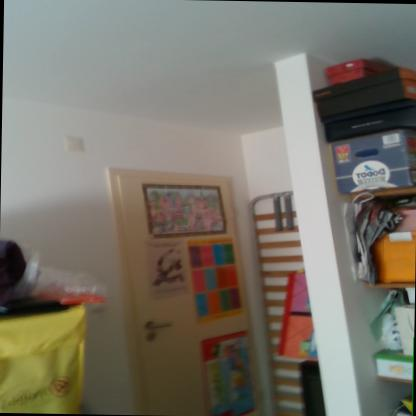closed: (95, 162, 258, 416)
